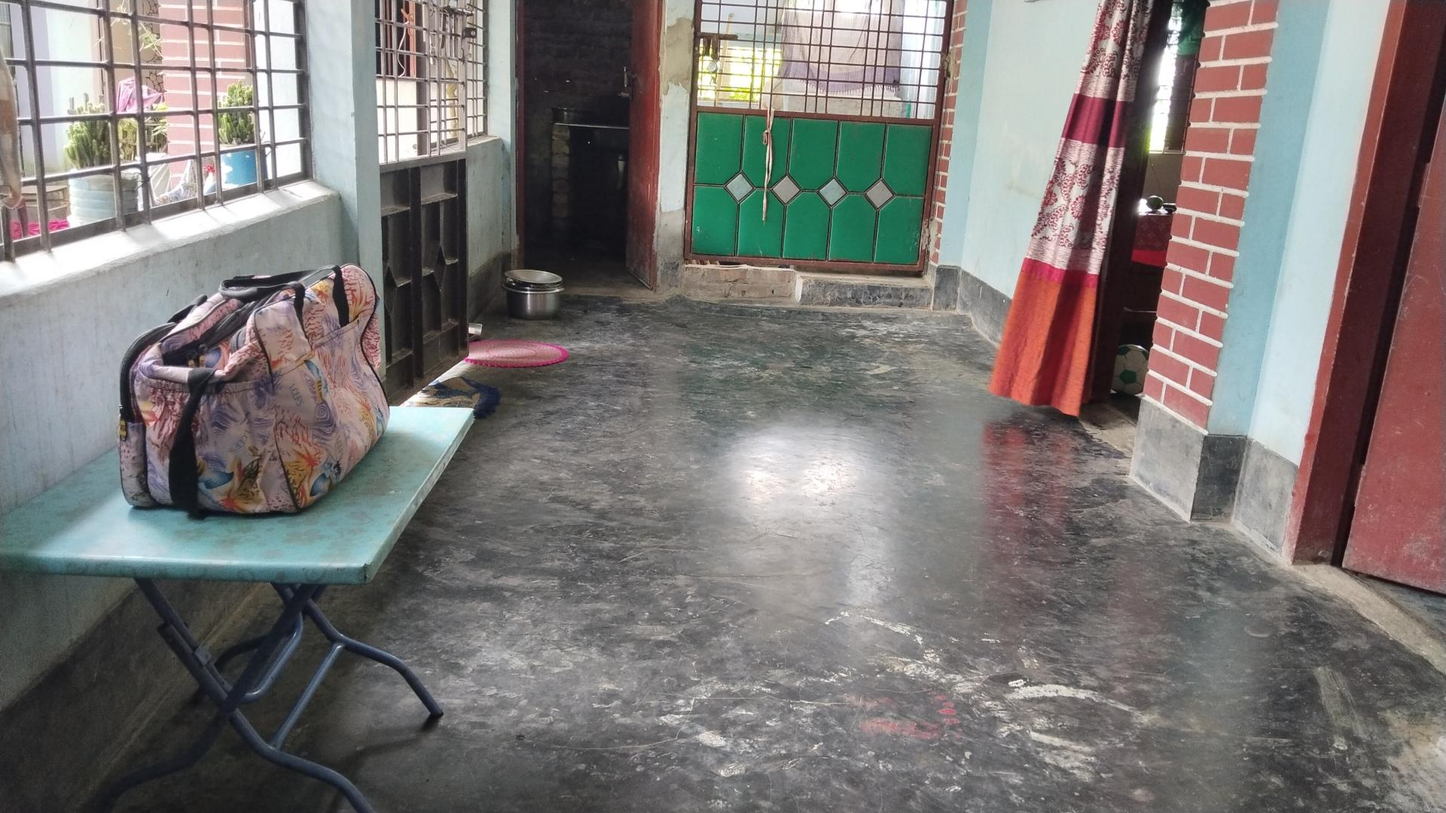Bag: (118, 274, 392, 503)
Door: (694, 2, 948, 281), (522, 2, 656, 290)
Pot: (504, 277, 562, 320)
Table: (0, 395, 484, 808)
